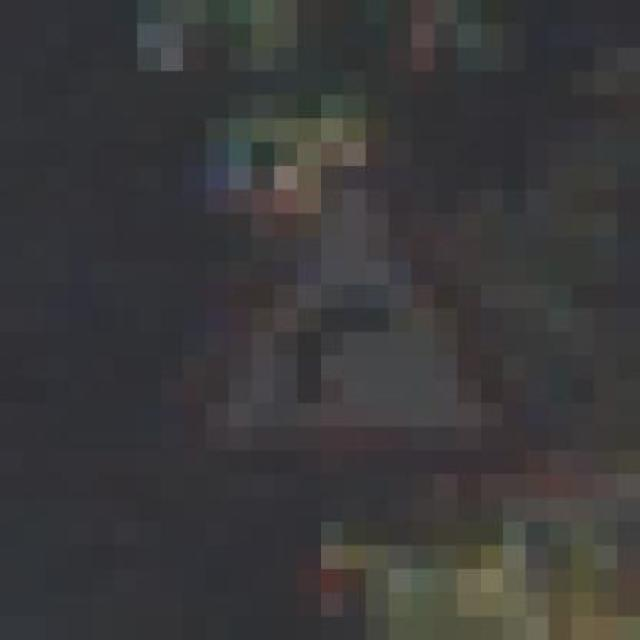Dangerous Rright Curve Ahead: (114, 95, 549, 498)
